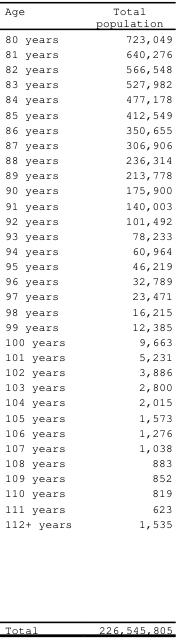table: (4, 3, 172, 636)
table column: (83, 3, 172, 636), (4, 3, 83, 636)
table column header: (4, 3, 172, 30)
table row: (4, 515, 172, 576), (4, 576, 172, 636), (4, 3, 172, 30), (4, 45, 172, 61), (4, 136, 172, 152), (4, 242, 172, 258), (4, 333, 172, 349), (4, 439, 172, 455), (4, 30, 172, 45), (4, 61, 172, 76), (4, 76, 172, 91), (4, 91, 172, 106), (4, 106, 172, 121), (4, 121, 172, 136), (4, 152, 172, 167), (4, 167, 172, 182), (4, 182, 172, 197), (4, 197, 172, 212), (4, 212, 172, 227), (4, 227, 172, 242), (4, 258, 172, 273), (4, 273, 172, 288), (4, 288, 172, 303), (4, 303, 172, 318), (4, 318, 172, 333), (4, 349, 172, 364), (4, 364, 172, 379), (4, 379, 172, 394), (4, 394, 172, 409), (4, 409, 172, 424), (4, 424, 172, 439), (4, 455, 172, 470), (4, 470, 172, 485), (4, 485, 172, 500), (4, 500, 172, 515)
